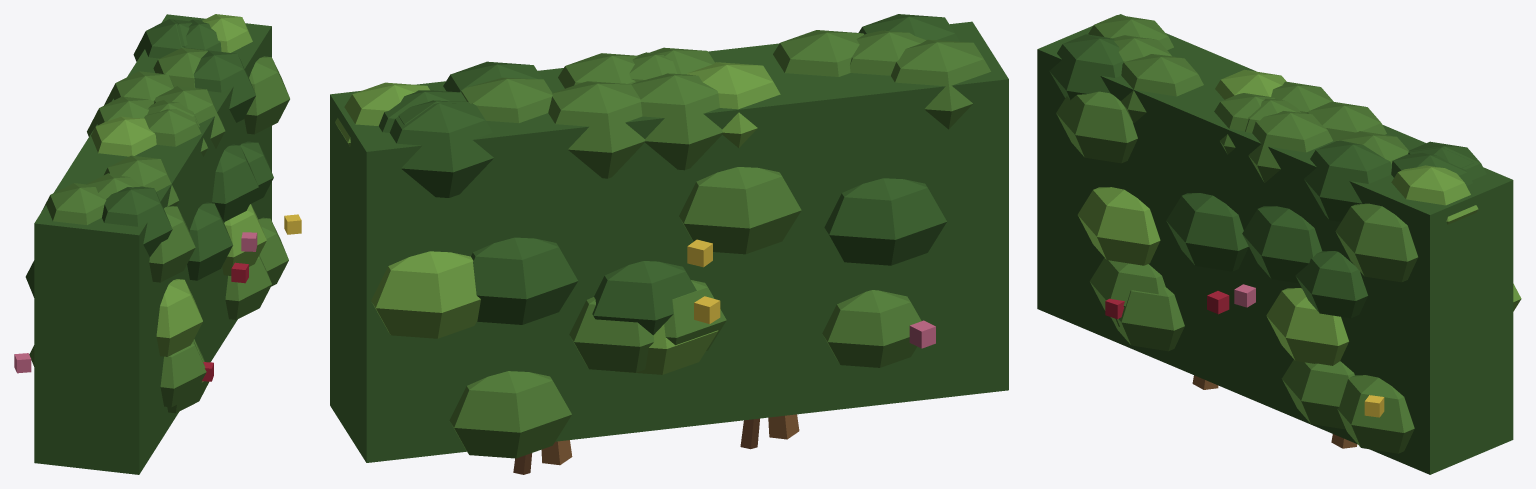
File: hedge_diagonal.glb
The picture shows the model from 3 angles, left to right: view 1: azimuth 30°, elevation 25°; view 2: azimuth 150°, elevation 25°; view 3: azimuth 270°, elevation 25°; orthographic projection. The views are drawn at different scales.
Parts seen in each view (by area): view 1: wall_hedge_diagonal; view 2: wall_hedge_diagonal; view 3: wall_hedge_diagonal.
Part boxes in pixels (<box>): wall_hedge_diagonal: <box>14,14,301,474</box>; wall_hedge_diagonal: <box>330,14,1008,474</box>; wall_hedge_diagonal: <box>1037,14,1521,474</box>.
Size of the model in its own units: 2.45 by 1.81 by 2.47.
